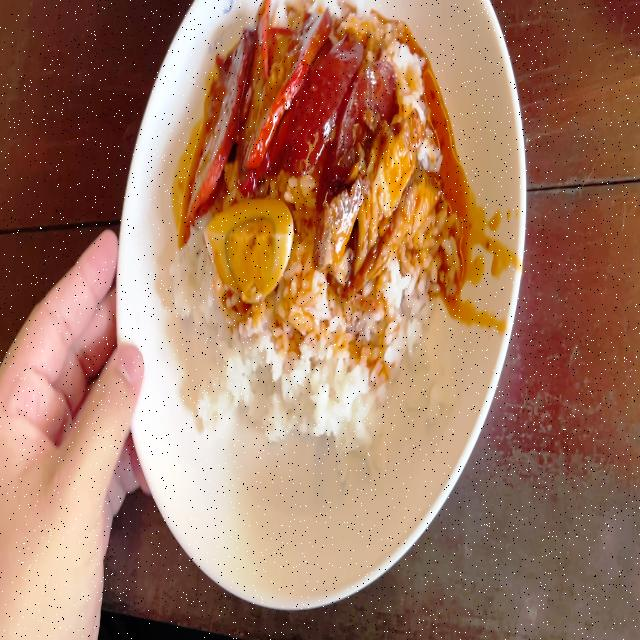boiled_egg: (203, 199, 297, 302)
chainese_sausage: (295, 44, 387, 176)
crispy_pork: (344, 128, 440, 274)
red_pork: (186, 14, 317, 193)
red_pork_and_crispy_pork: (176, 7, 447, 439)
rice: (201, 311, 401, 427), (314, 275, 432, 354)
